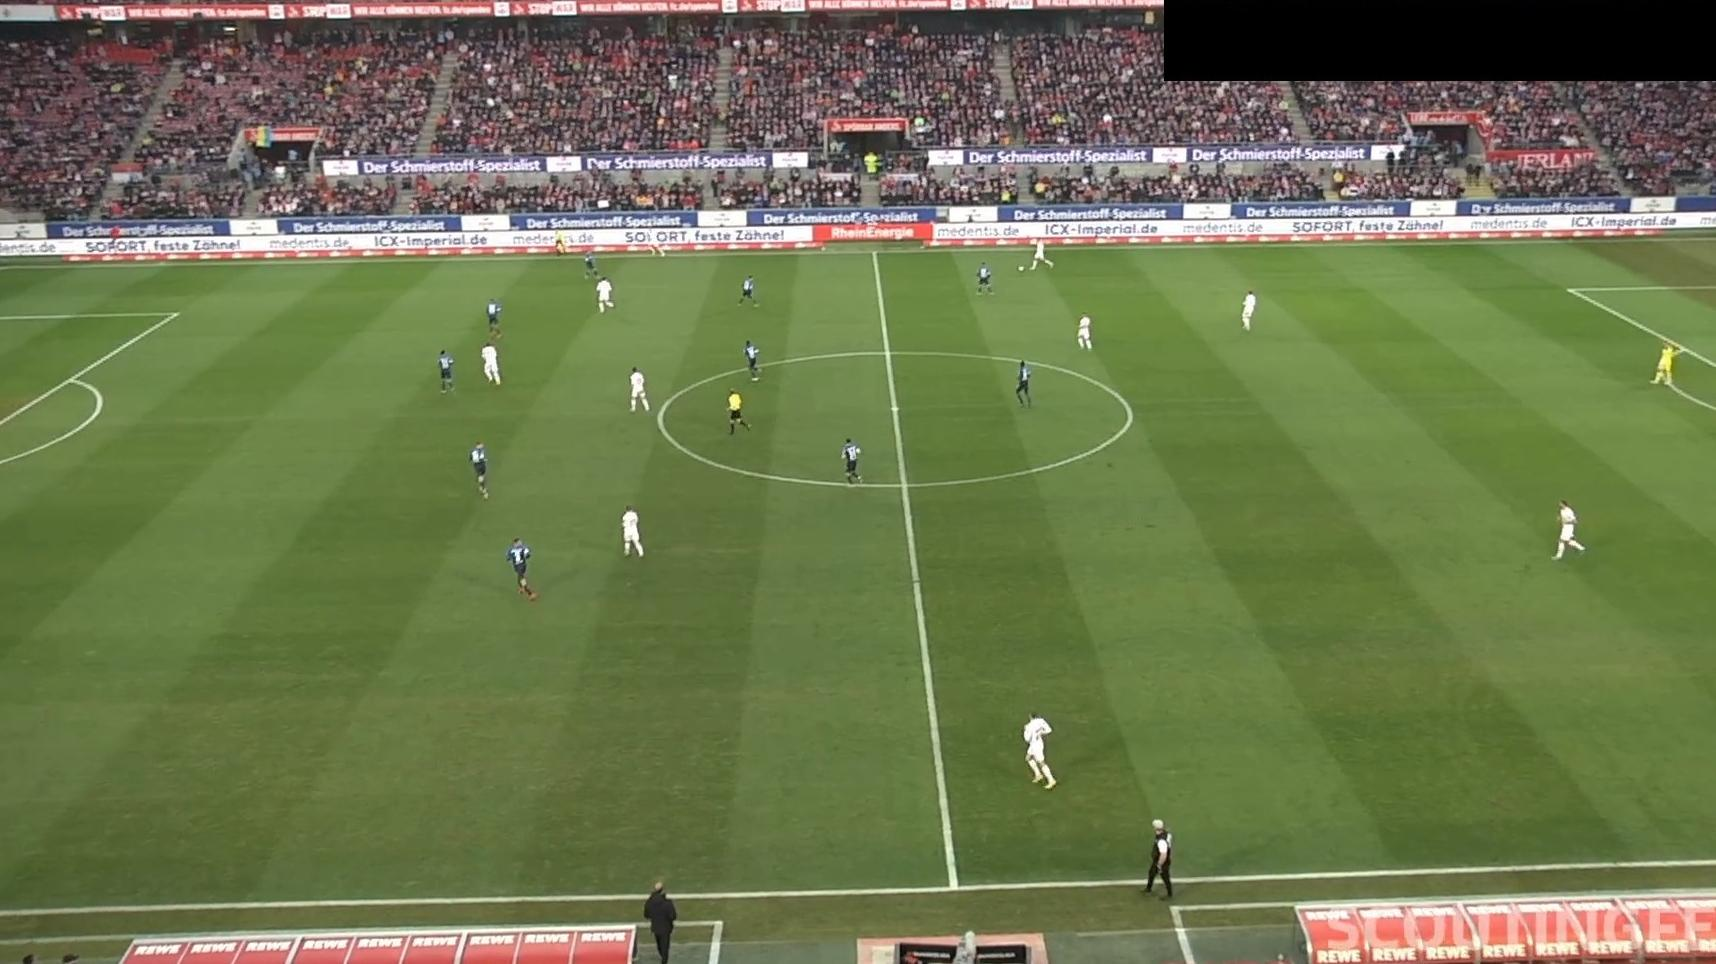ball: (1017, 265, 1025, 273)
